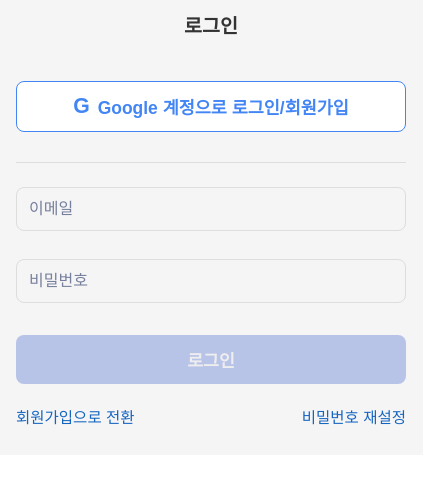
it: AuthForm › 로그인 실패 - 비밀번호 틀림
The width and height of the screenshot is (423, 487).
Type "test@test.com" into the field with placeholder "이메일". click: {"x": 211, "y": 208}
box: [16,186,406,230]
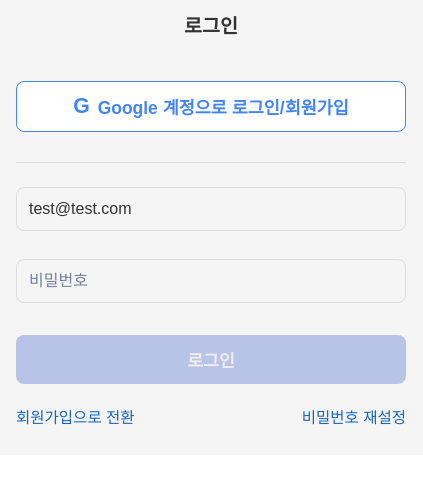
Type "Abcdefg1!" into the password field with placeholder "비밀번호". click: {"x": 211, "y": 280}
box: [16,258,406,302]
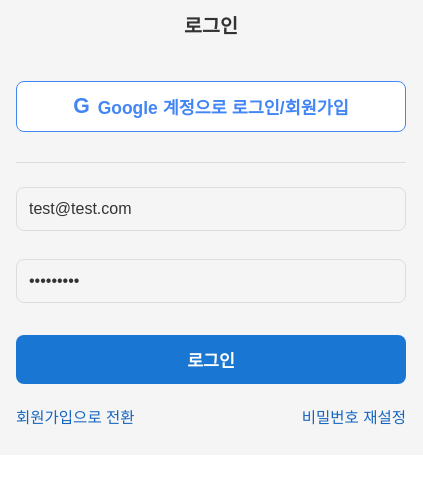
Click the button "로그인". click: {"x": 211, "y": 359}
box: [16,334,406,384]
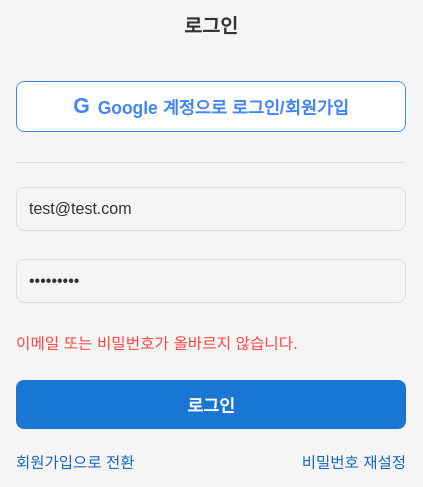
Now the text "이메일 또는 비밀번호가 올바르지 않습니다." is shown, box [16,334,298,352]
